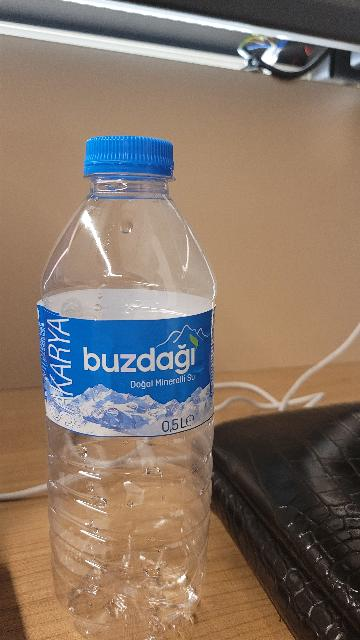Plastik: (30, 112, 263, 639)
